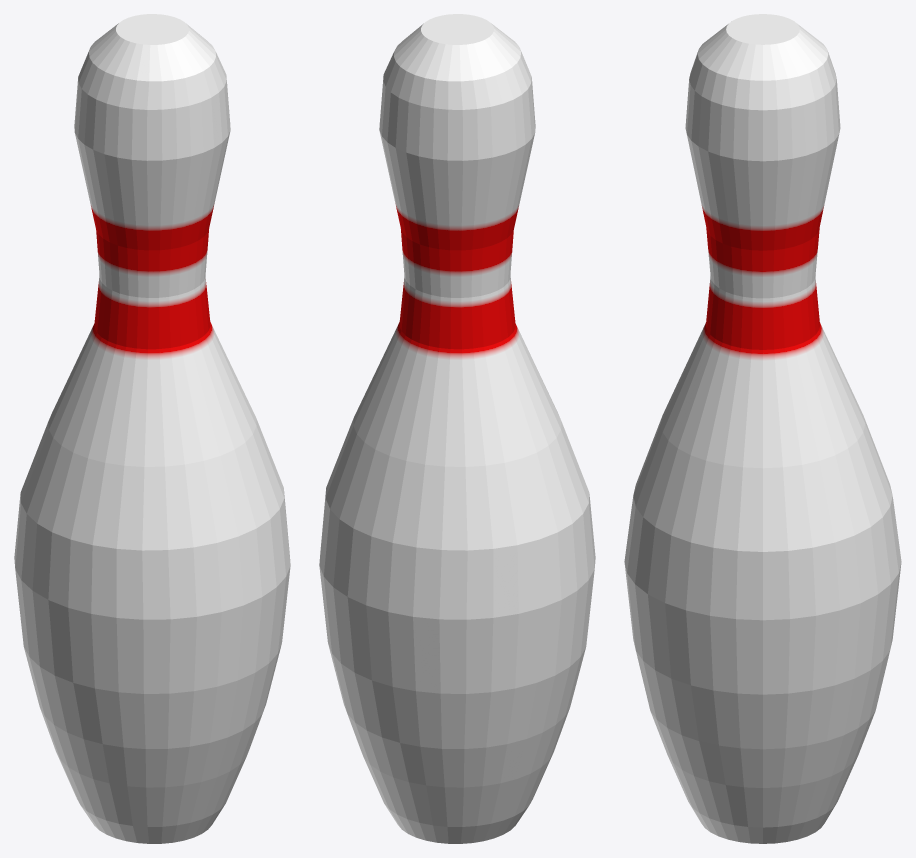
The model's file is pin.fbx.
The picture shows the model from 3 angles, left to right: view 1: azimuth 30°, elevation 25°; view 2: azimuth 150°, elevation 25°; view 3: azimuth 270°, elevation 25°; orthographic projection.
Parts seen in each view (by area): view 1: Cylinder; view 2: Cylinder; view 3: Cylinder.
Part boxes in pixels (box(x1,y1,x2,y2)): Cylinder: box(14, 14, 290, 843); Cylinder: box(319, 14, 595, 843); Cylinder: box(624, 14, 901, 843).
Size of the model in its own units: 12.1 by 38 by 12.1.
